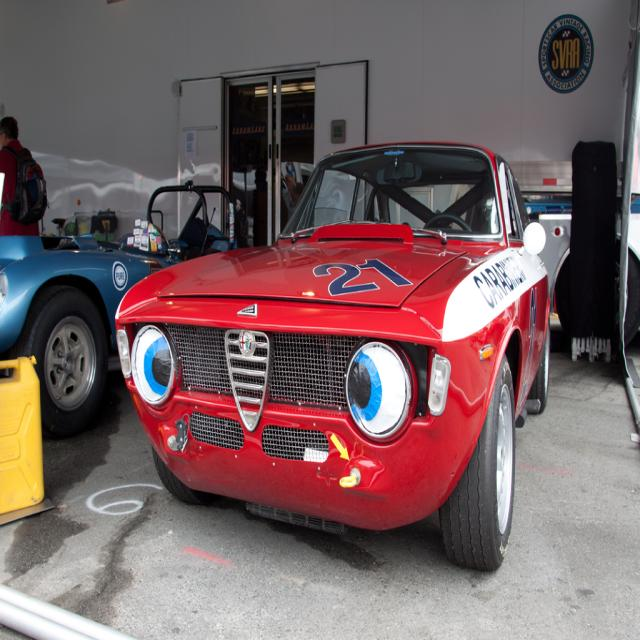car: (114, 138, 556, 574)
